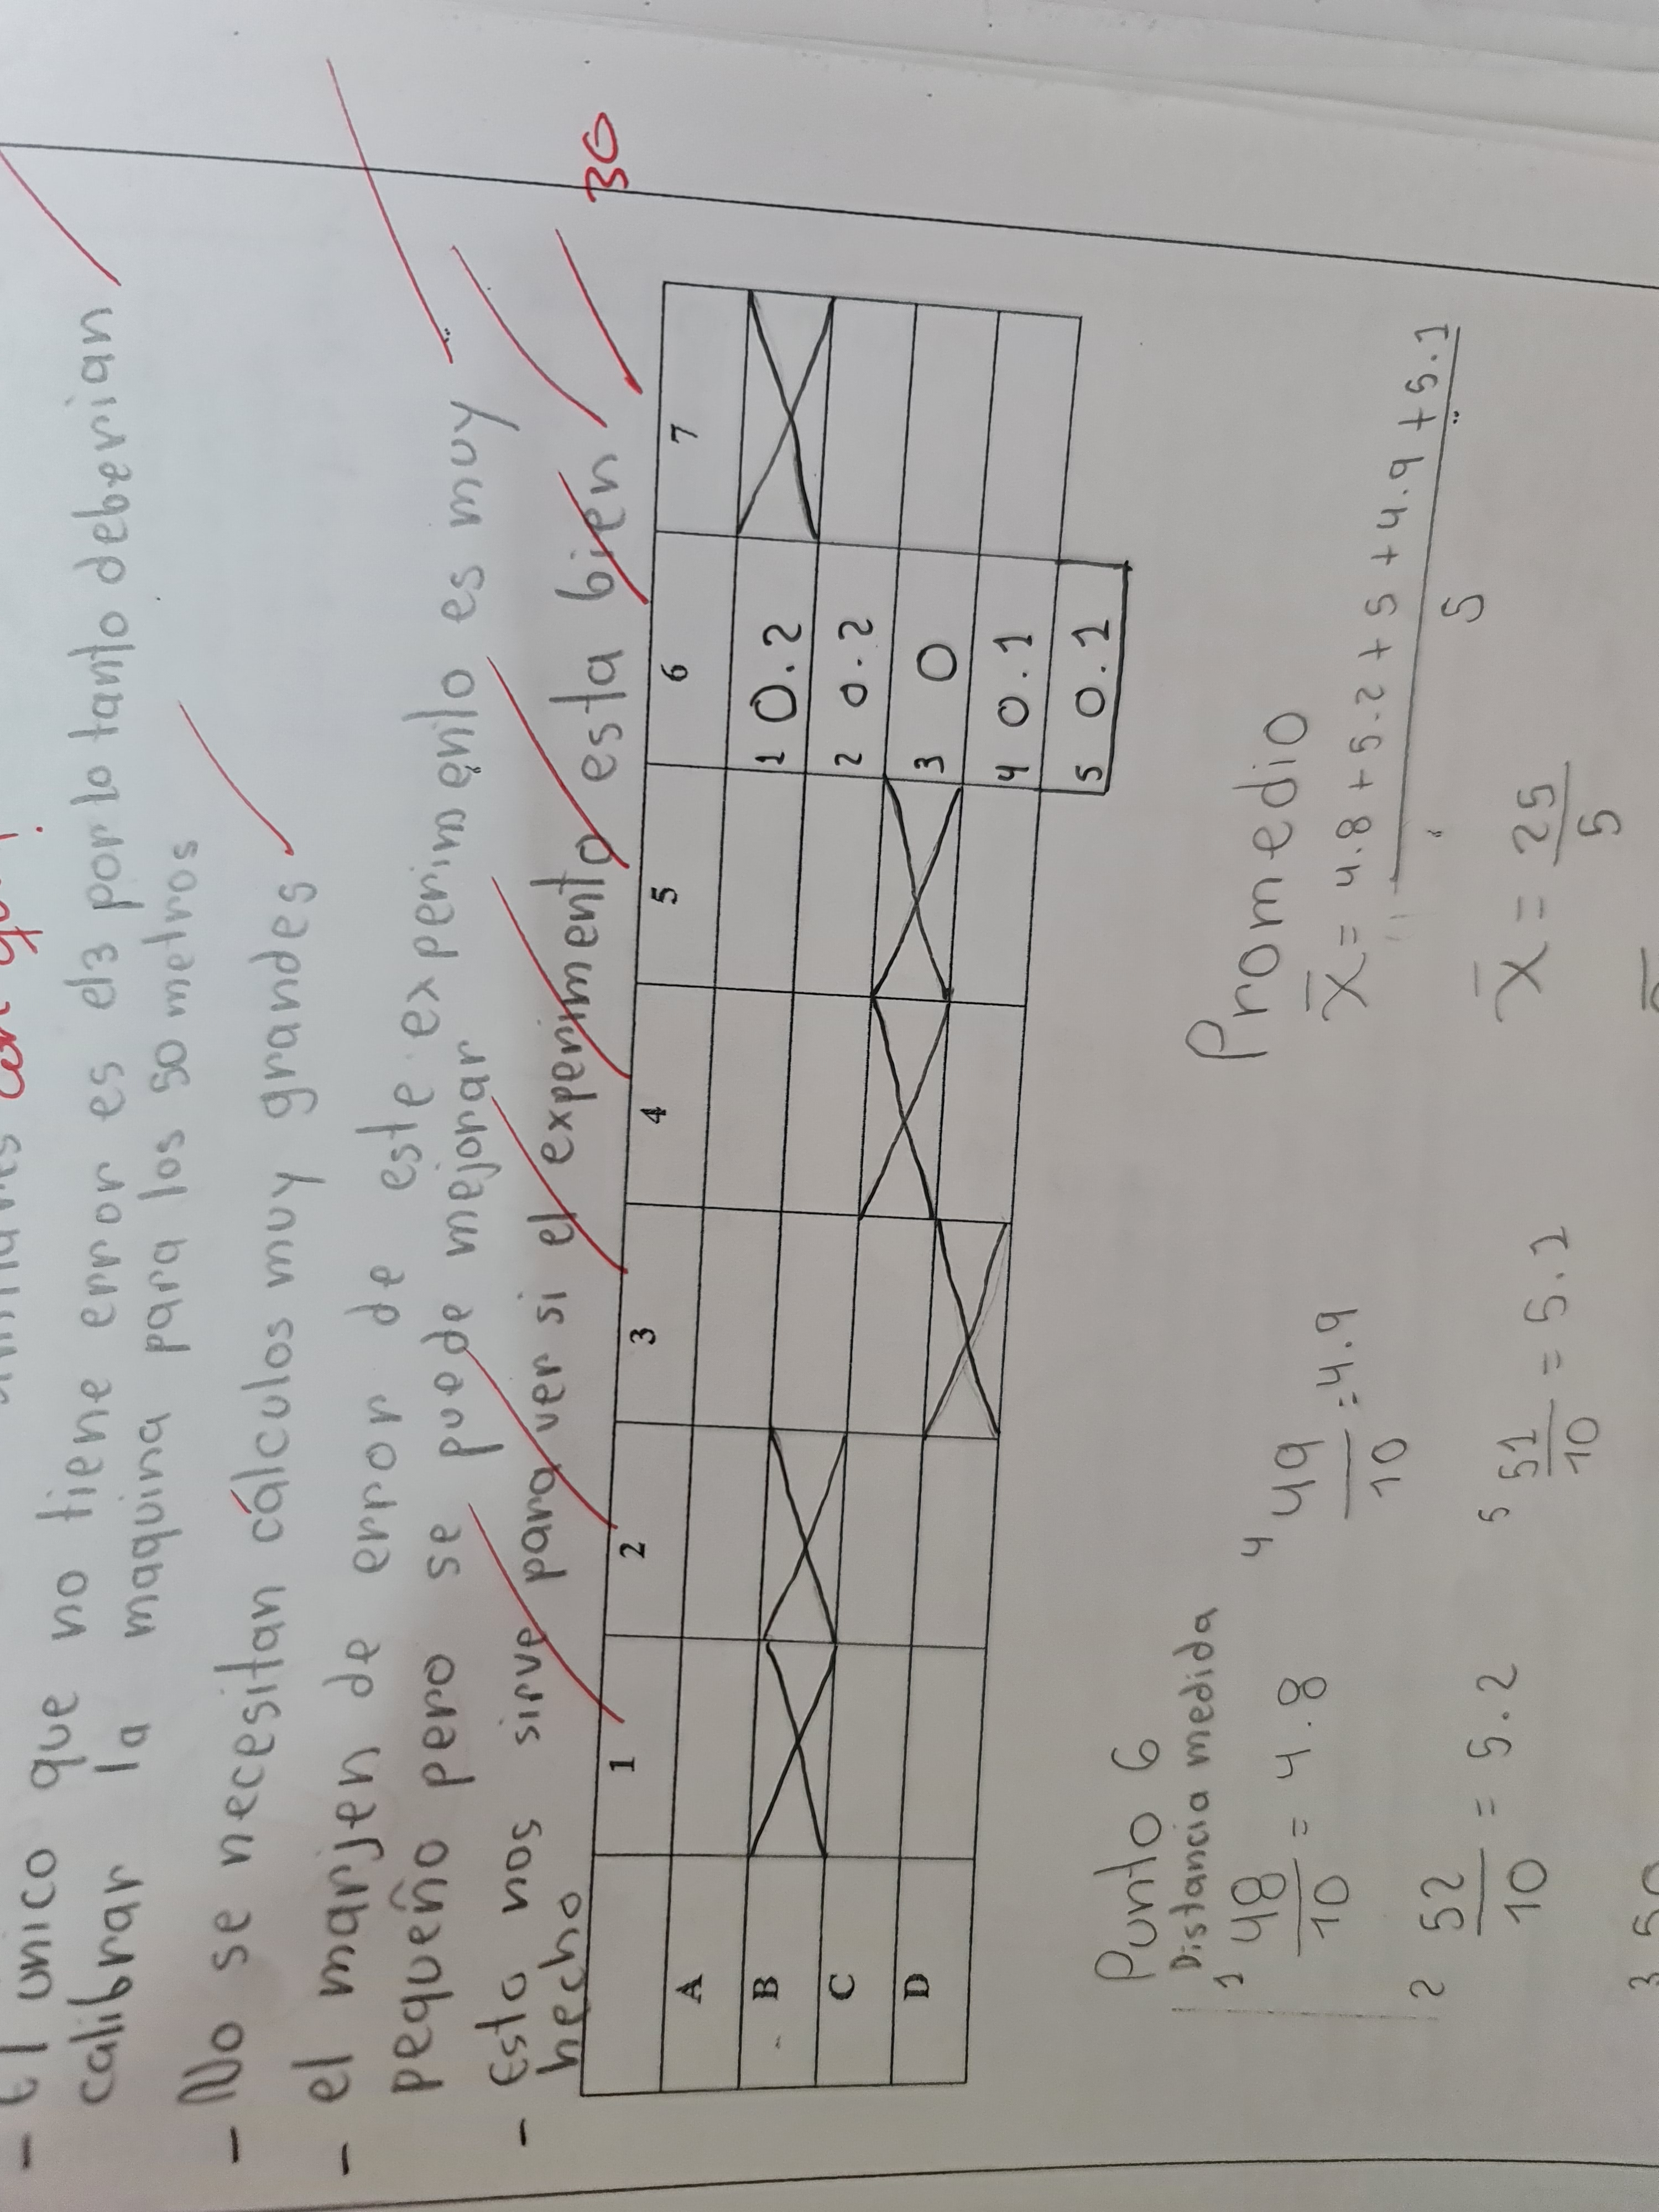column: (605, 754, 1054, 1017), (579, 1831, 990, 2109), (594, 1190, 1046, 1440), (584, 1404, 1026, 1656), (598, 974, 1042, 1219), (584, 1629, 1018, 1869)
